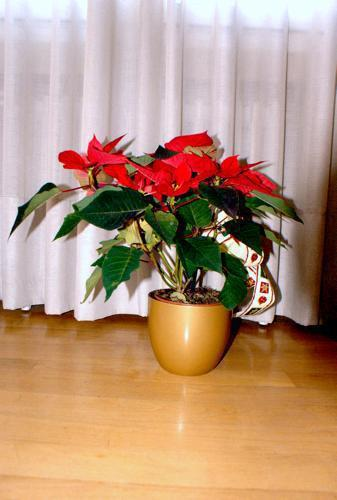Matera: (37, 110, 302, 387)
